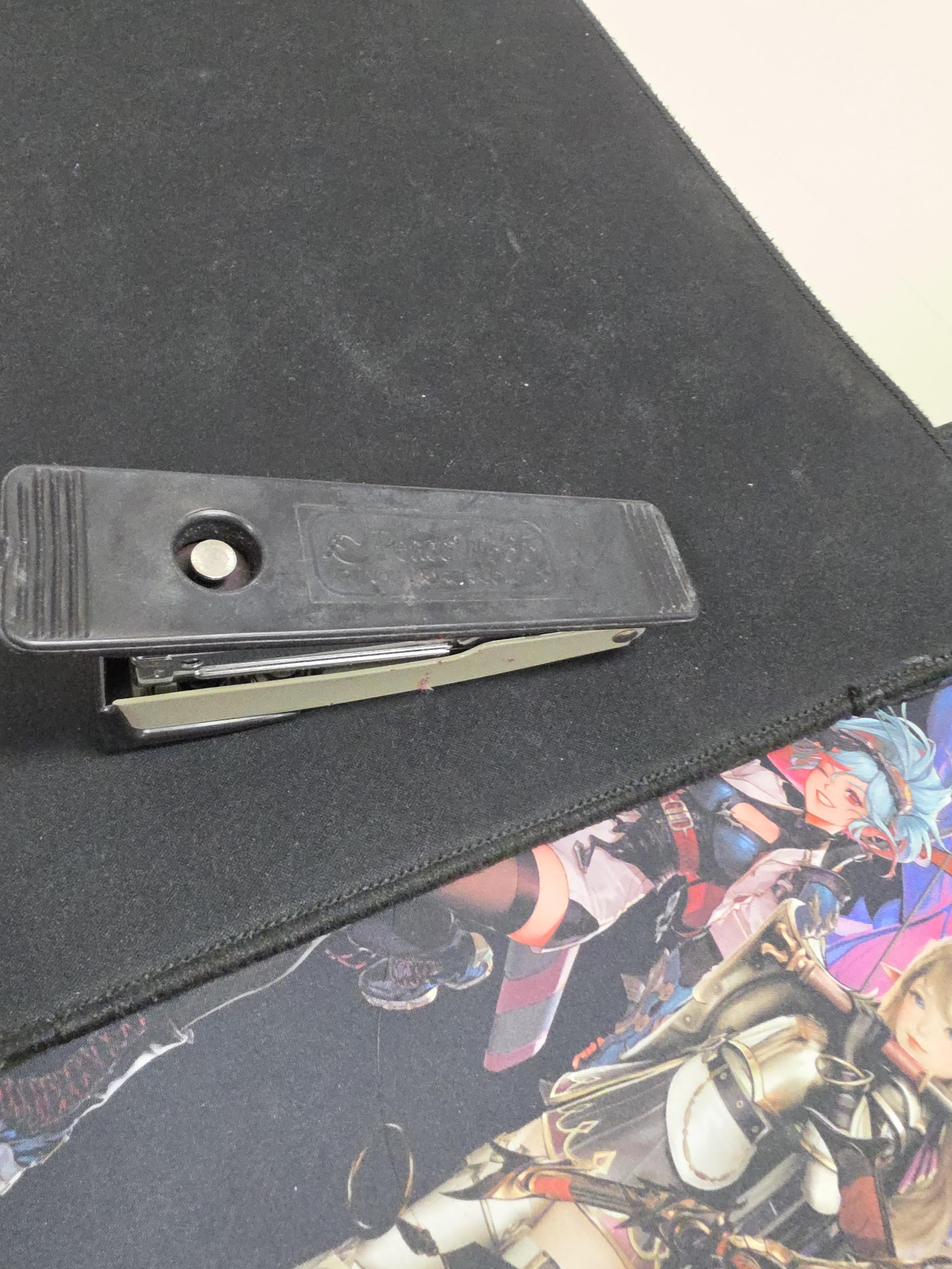stapler: (0, 463, 701, 748)
